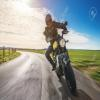motorcycles: (49, 34, 79, 94)
